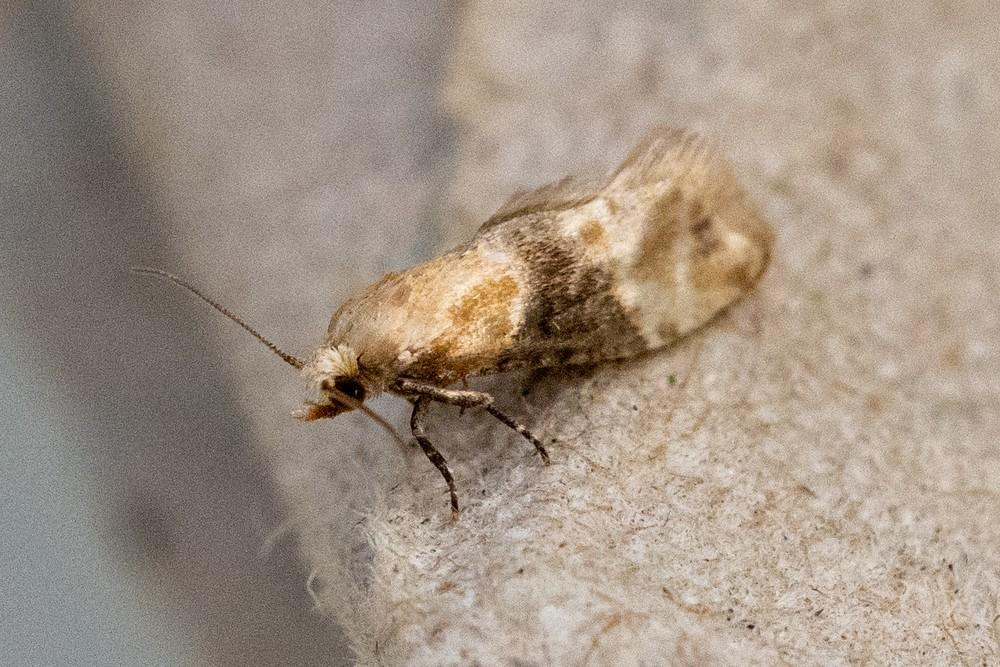Eupoecilia Ambiguella: (124, 119, 779, 526)
